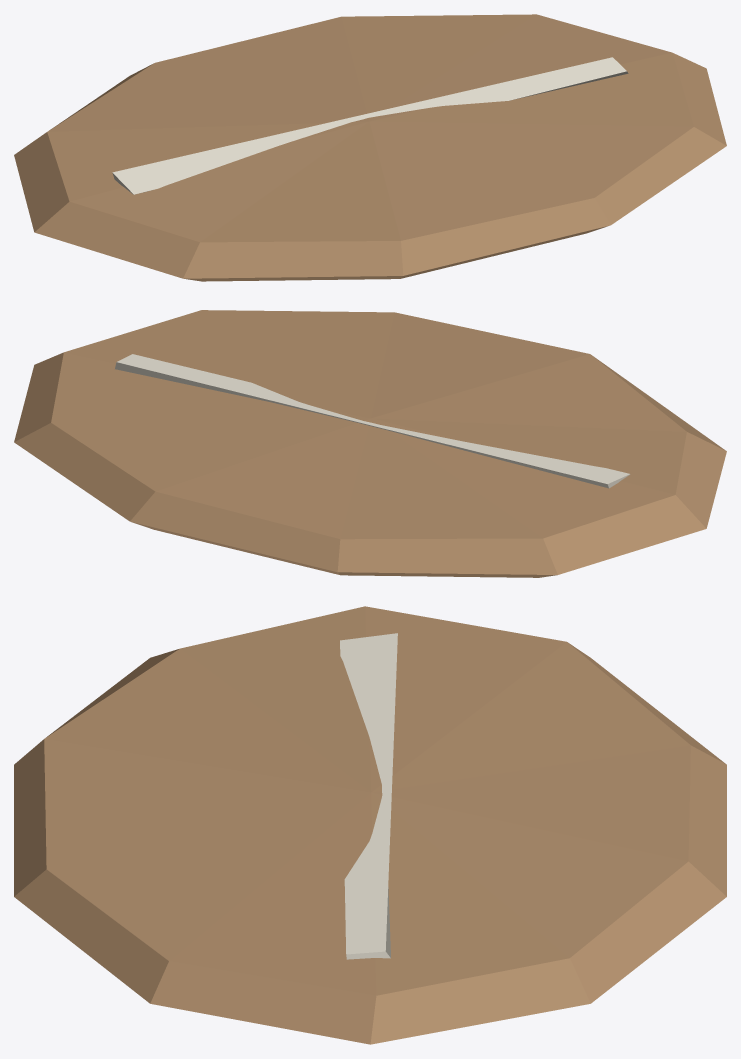
The model's file is prop-lining-pad-blank.fbx.
The picture shows the model from 3 angles, top to bottom: view 1: azimuth 30°, elevation 25°; view 2: azimuth 150°, elevation 25°; view 3: azimuth 270°, elevation 25°; orthographic projection. The views are drawn at different scales.
Visible parts, largest first — view 1: prop-lining-pad-blank; view 2: prop-lining-pad-blank; view 3: prop-lining-pad-blank.
Part boxes in pixels (bbox=[...]): prop-lining-pad-blank: bbox=[14, 14, 726, 281]; prop-lining-pad-blank: bbox=[14, 310, 726, 577]; prop-lining-pad-blank: bbox=[14, 606, 726, 1044].
Size of the model in its own units: 27 by 1.78 by 19.02.
